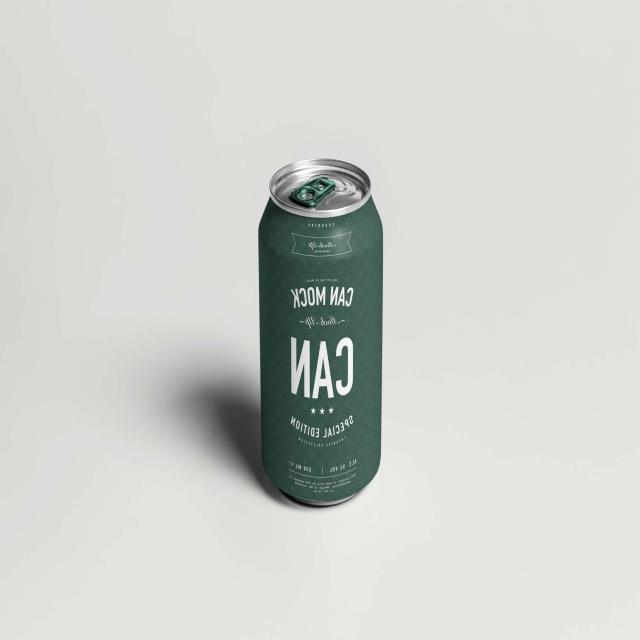metal: (259, 159, 382, 504)
